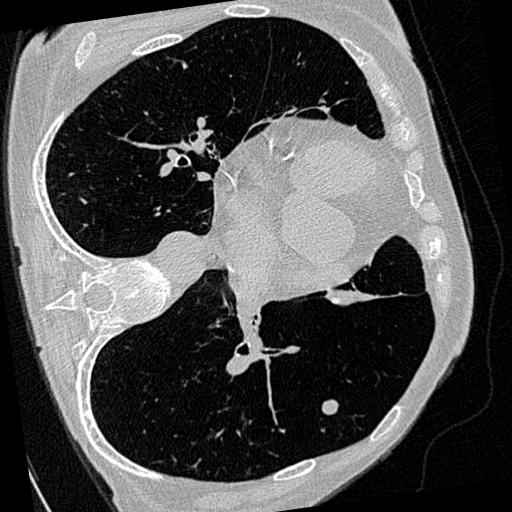nodule: (320, 397, 344, 421)
